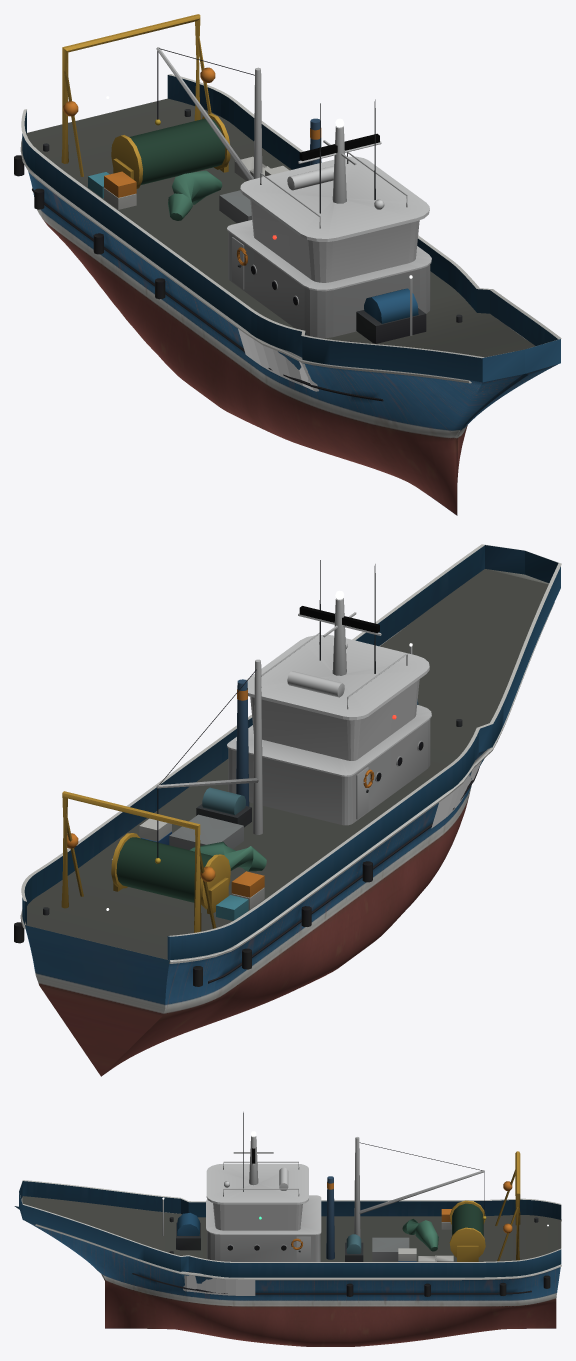
File: kutter.glb
3 views of the same model, one above another, from view 1: azimuth 30°, elevation 25°; view 2: azimuth 150°, elevation 25°; view 3: azimuth 270°, elevation 25° (orthographic). The views are drawn at different scales.
Parts seen in each view (by area): view 1: trim, rumpf, rund, name-1, radar; view 2: trim, rumpf, rund, name-1, radar; view 3: trim, rumpf, rund, name1.
Part boxes in pixels (<box>): trim: <box>21,74,561,382</box>; rumpf: <box>28,171,557,515</box>; rund: <box>14,14,527,401</box>; name-1: <box>238,329,318,391</box>; radar: <box>299,133,379,160</box>; trim: <box>21,544,561,960</box>; rumpf: <box>25,750,486,1076</box>; rund: <box>14,560,554,986</box>; name-1: <box>431,761,481,828</box>; radar: <box>299,606,379,633</box>; trim: <box>19,1163,561,1277</box>; rumpf: <box>14,1206,560,1346</box>; rund: <box>35,1112,561,1296</box>; name1: <box>183,1275,255,1295</box>.
Bounding box in the file's own units: 9.49 × 14.19 × 32.77.
7 materials, 1 textured.
